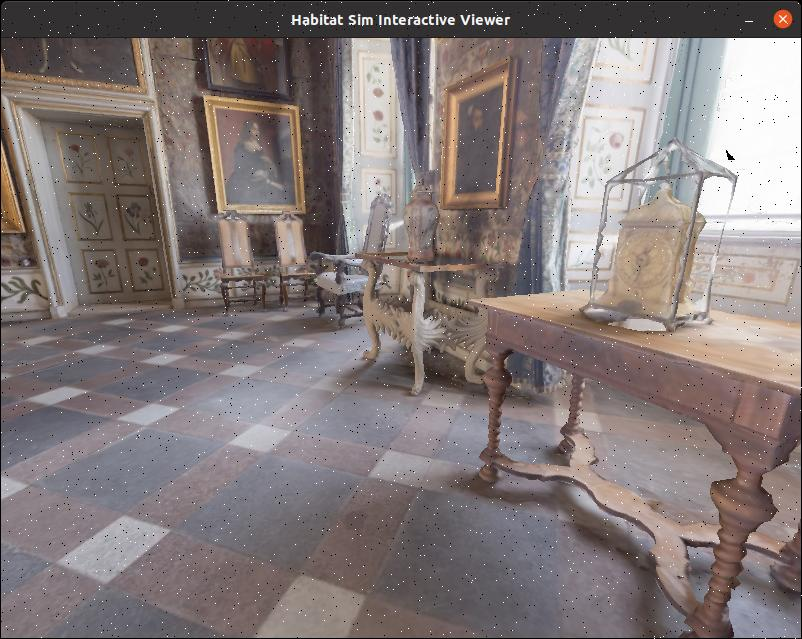chair: (316, 197, 407, 316), (207, 207, 272, 330), (270, 207, 323, 323)
door: (49, 127, 161, 306)
door-frame: (0, 71, 192, 343)
table: (479, 253, 802, 639), (367, 245, 517, 384)
